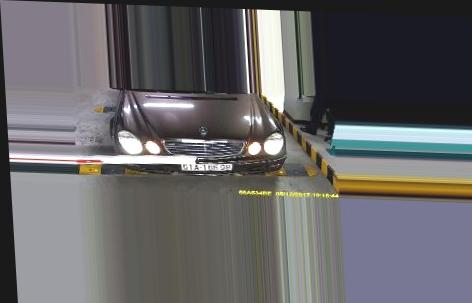License_Plate: (181, 160, 235, 174)
